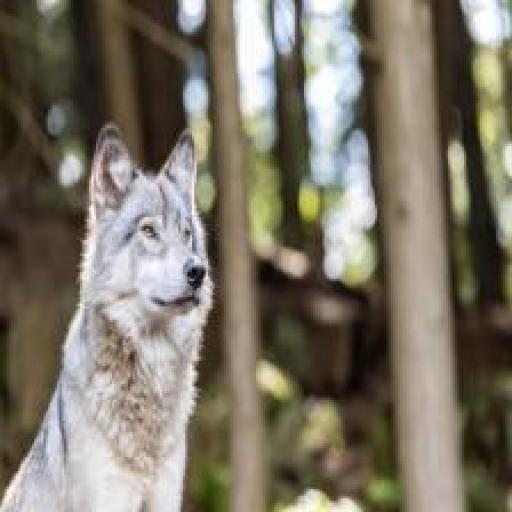wolf: (0, 103, 231, 512)
